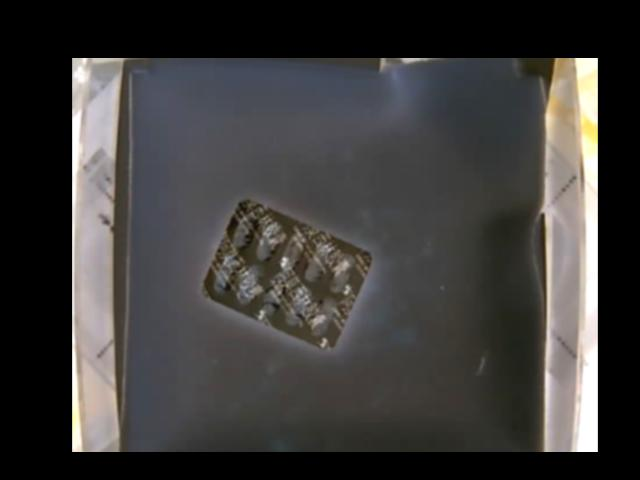Medicine: (202, 197, 371, 350)
